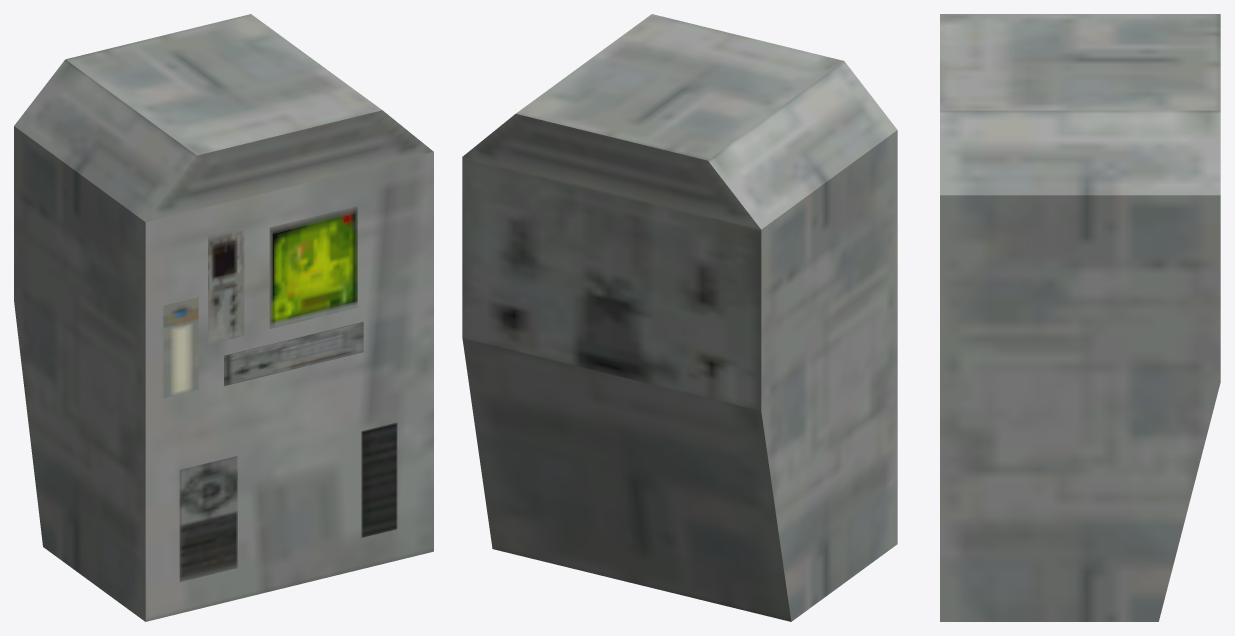
Rendered from ksk_all_shipping_l3.fbx.
3 views of the same model, side by side, from view 1: azimuth 30°, elevation 25°; view 2: azimuth 150°, elevation 25°; view 3: azimuth 270°, elevation 25° (orthographic). The views are drawn at different scales.
Visible parts, largest first — view 1: mesh_node; view 2: mesh_node; view 3: mesh_node.
Part boxes in pixels (bbox=[...]): mesh_node: bbox=[14, 14, 433, 621]; mesh_node: bbox=[462, 14, 897, 621]; mesh_node: bbox=[940, 14, 1220, 621].
Size of the model in its own units: 1.62 by 2.44 by 1.35.
Materials: 1 (1 with a texture image).
